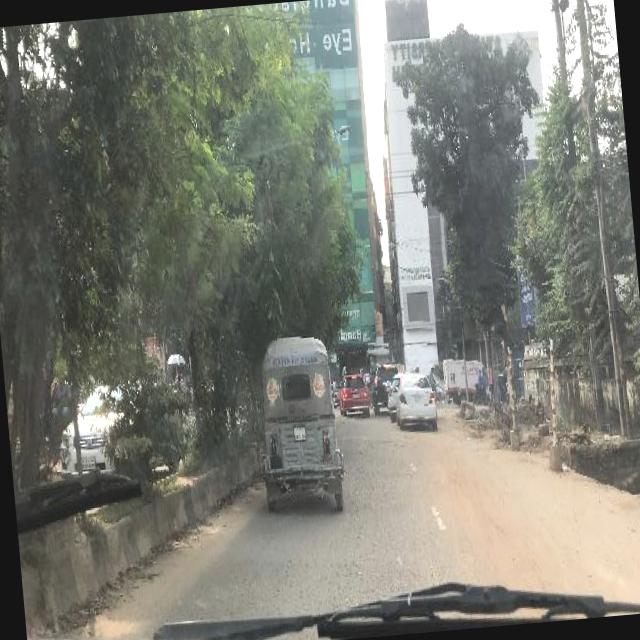car: (397, 373, 438, 431), (338, 375, 369, 416), (371, 365, 396, 413)
motorcycle: (252, 334, 344, 512)
truck: (442, 354, 478, 404)
